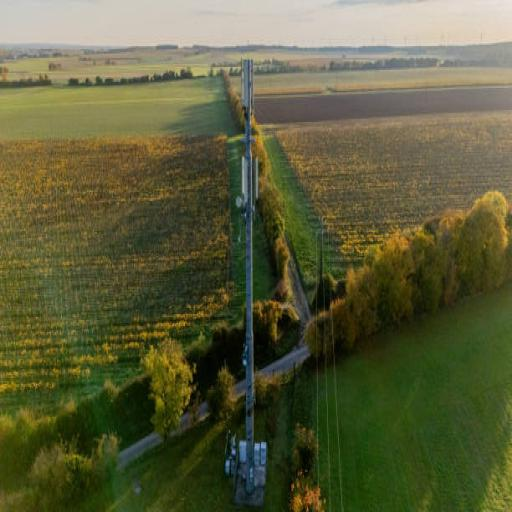monopole_tower: (238, 56, 260, 492)
